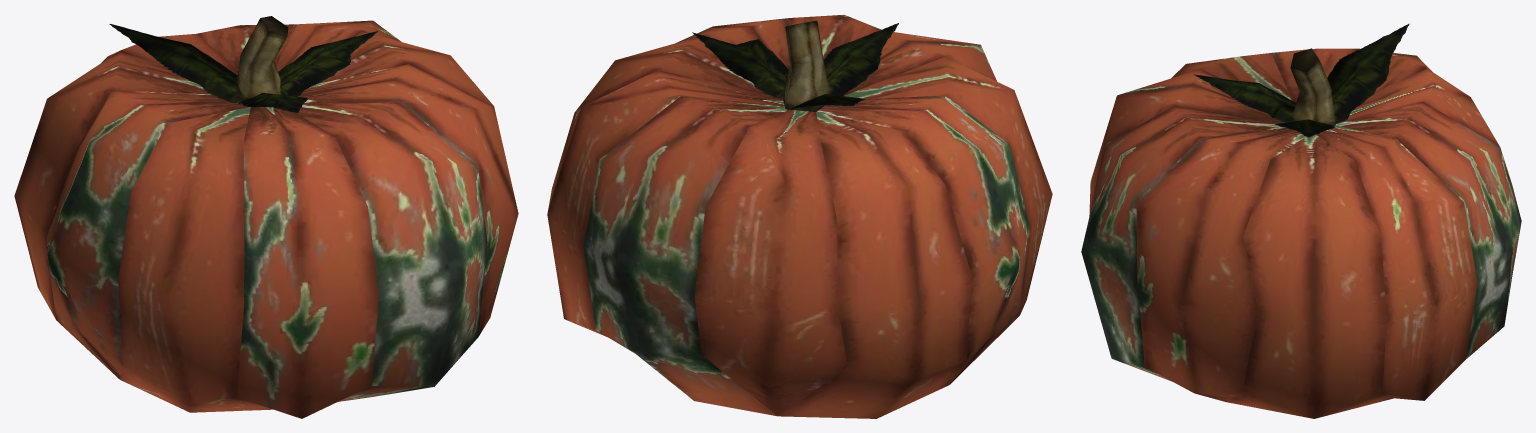
File: KM_VOB_PUMPKIN_02.glb
3 renders of one model, left to right at view 1: azimuth 30°, elevation 25°; view 2: azimuth 150°, elevation 25°; view 3: azimuth 270°, elevation 25°, orthographic. The views are drawn at different scales.
Parts seen in each view (by area): view 1: Mesh; view 2: Mesh; view 3: Mesh.
Boxes of the visible parts, x1,y1,x2,y2 form: Mesh: (14, 16, 518, 418); Mesh: (547, 14, 1052, 418); Mesh: (1081, 23, 1521, 418).
Bounding box in the file's own units: 0.9209 × 0.6695 × 0.8627.
Materials: 2 (2 with a texture image).
